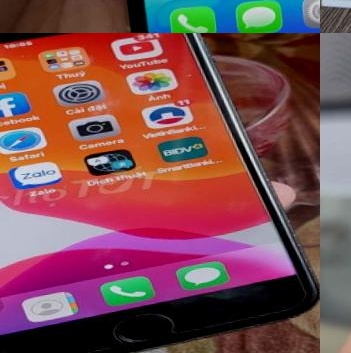scratch: (245, 154, 320, 285), (176, 33, 241, 70)
